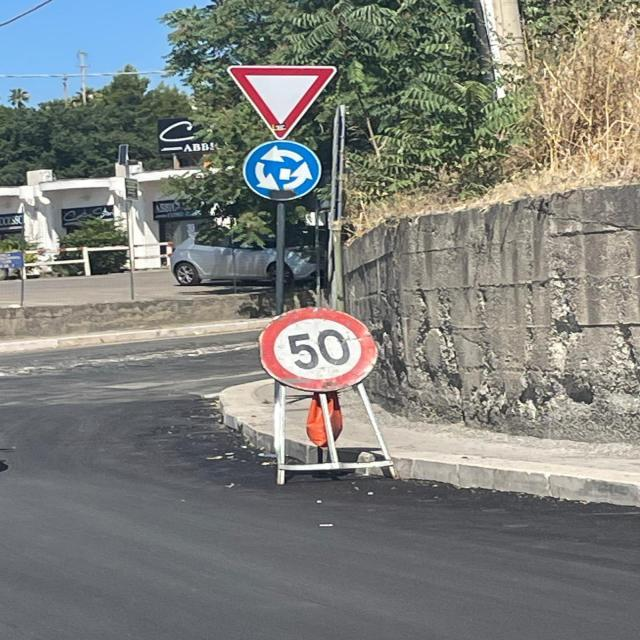forb_speed_over_50: (258, 306, 381, 396)
prio_give_way: (227, 64, 340, 140)
